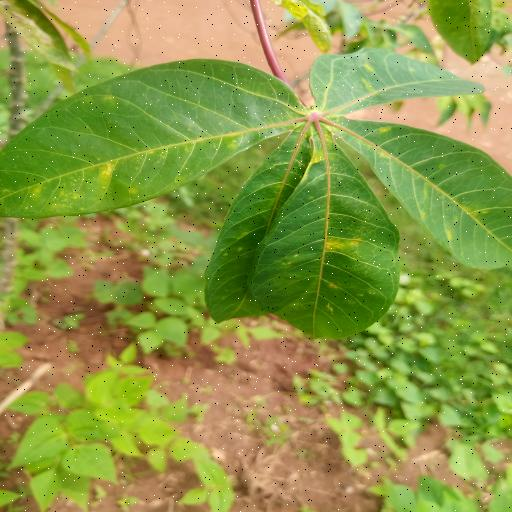Cassava_Mosaic: (2, 42, 512, 356)
